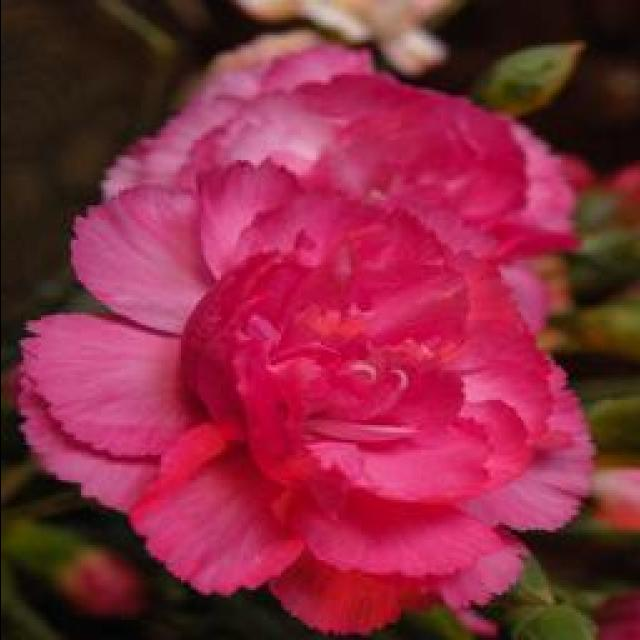carnation: (15, 157, 565, 640)
